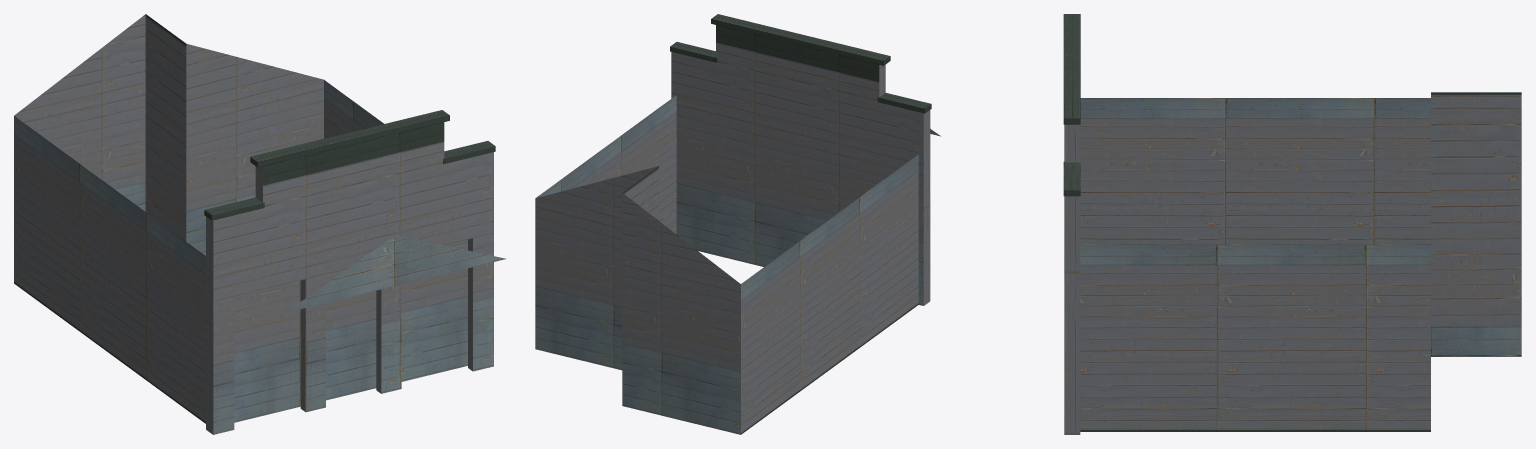
File: rural_storesmall_2_rural_walltrim_1_0_lev2.glb
3 views of the same model, side by side, from view 1: azimuth 30°, elevation 25°; view 2: azimuth 150°, elevation 25°; view 3: azimuth 270°, elevation 25° (orthographic). The views are drawn at different scales.
Parts seen in each view (by area): view 1: rural_storesmall_2_rural_walltrim_1_0_lev2; view 2: rural_storesmall_2_rural_walltrim_1_0_lev2; view 3: rural_storesmall_2_rural_walltrim_1_0_lev2.
Part boxes in pixels (x1=…): rural_storesmall_2_rural_walltrim_1_0_lev2: x1=14, y1=14, x2=506, y2=434; rural_storesmall_2_rural_walltrim_1_0_lev2: x1=535, y1=14, x2=940, y2=434; rural_storesmall_2_rural_walltrim_1_0_lev2: x1=1063, y1=14, x2=1521, y2=434.
Bounding box in the file's own units: 9.74 × 8.6 × 14.69.
Materials: 1 (1 with a texture image).
